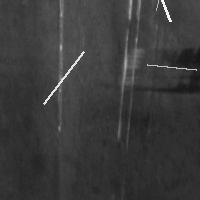scratches: (114, 1, 144, 147), (115, 47, 199, 94), (38, 47, 88, 109), (53, 1, 69, 132), (142, 59, 200, 74), (152, 0, 175, 26), (151, 0, 174, 15)
